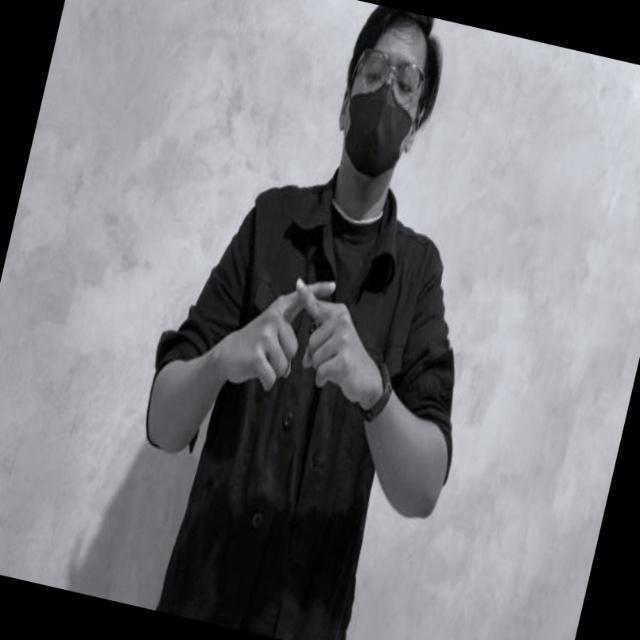X: (238, 267, 372, 384)
